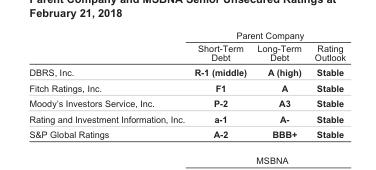table: (28, 29, 345, 139)
table column: (28, 29, 189, 139), (189, 29, 251, 139), (251, 29, 307, 139), (307, 29, 345, 139)
table column header: (28, 29, 345, 64)
table row: (28, 40, 345, 64), (28, 79, 345, 95), (28, 110, 345, 126), (28, 64, 345, 79), (28, 95, 345, 110), (28, 126, 345, 139), (28, 29, 345, 40)
table spanning cell: (189, 29, 345, 40)
